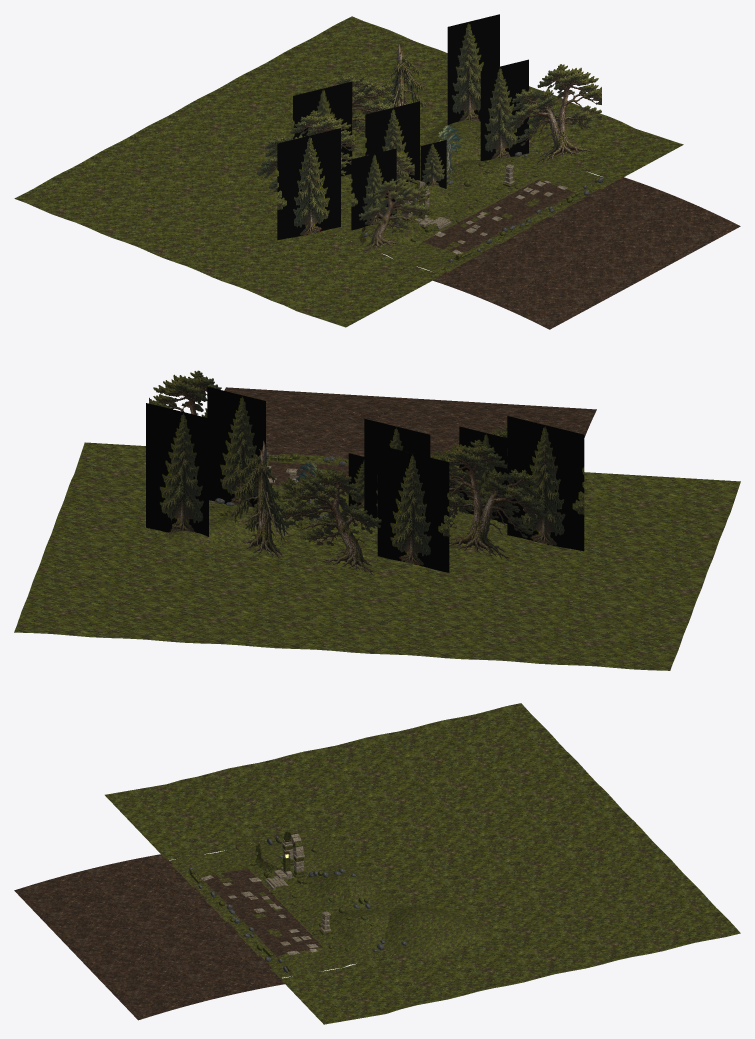
The model's file is mossbound_full_stage.fbx.
3 views of the same model, one above another, from view 1: azimuth 30°, elevation 25°; view 2: azimuth 150°, elevation 25°; view 3: azimuth 270°, elevation 25° (orthographic). The views are drawn at different scales.
Parts seen in each view (by area): view 1: StageBatch_13, StageBatch_08, StageBatch_15, StageBatch_02, StageBatch_09, StageBatch_12, StageBatch_07, StageBatch_11, StageBatch_00, StageBatch_01; view 2: StageBatch_13, StageBatch_08, StageBatch_15, StageBatch_09, StageBatch_07, StageBatch_12, StageBatch_11, StageBatch_02; view 3: StageBatch_13, StageBatch_15, StageBatch_02, StageBatch_12, StageBatch_00, StageBatch_01, StageBatch_04.
Part boxes in pixels (x1=…): StageBatch_13: x1=14, y1=16, x2=683, y2=327; StageBatch_08: x1=277, y1=14, x2=528, y2=240; StageBatch_15: x1=433, y1=177, x2=740, y2=329; StageBatch_02: x1=324, y1=149, x2=615, y2=274; StageBatch_09: x1=256, y1=64, x2=601, y2=205; StageBatch_12: x1=358, y1=120, x2=521, y2=247; StageBatch_07: x1=336, y1=72, x2=427, y2=252; StageBatch_11: x1=368, y1=44, x2=427, y2=111; StageBatch_00: x1=366, y1=160, x2=599, y2=260; StageBatch_01: x1=402, y1=164, x2=567, y2=254; StageBatch_13: x1=14, y1=442, x2=740, y2=670; StageBatch_08: x1=146, y1=387, x2=584, y2=572; StageBatch_15: x1=224, y1=387, x2=596, y2=459; StageBatch_09: x1=149, y1=370, x2=547, y2=560; StageBatch_07: x1=281, y1=424, x2=507, y2=574; StageBatch_12: x1=168, y1=495, x2=507, y2=547; StageBatch_11: x1=229, y1=441, x2=301, y2=558; StageBatch_02: x1=209, y1=454, x2=527, y2=542; StageBatch_13: x1=105, y1=703, x2=740, y2=1024; StageBatch_15: x1=14, y1=854, x2=284, y2=1020; StageBatch_02: x1=170, y1=828, x2=399, y2=977; StageBatch_12: x1=255, y1=838, x2=485, y2=959; StageBatch_00: x1=189, y1=830, x2=374, y2=971; StageBatch_01: x1=201, y1=833, x2=331, y2=954; StageBatch_04: x1=188, y1=836, x2=406, y2=972.
Bounding box in the file's own units: 8502 × 1702 × 8679.
Materials: 14 (12 with a texture image).
